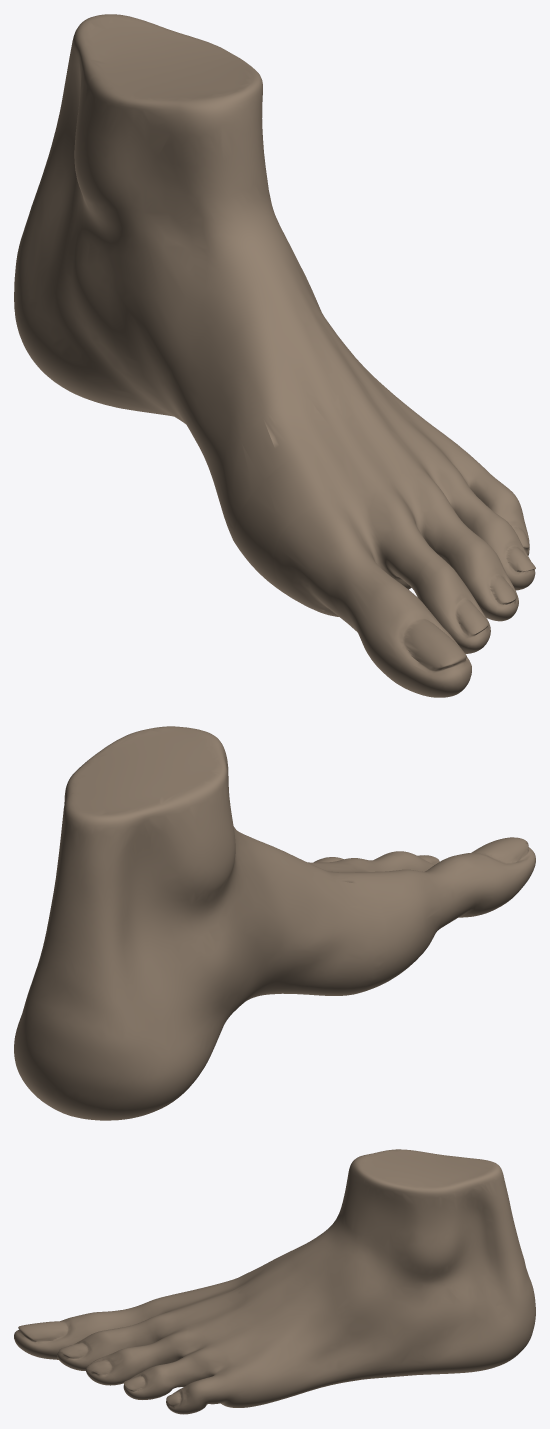
File: foot.egyptian.optimized.glb
3 renders of one model, top to bottom at view 1: azimuth 30°, elevation 25°; view 2: azimuth 150°, elevation 25°; view 3: azimuth 270°, elevation 25°, orthographic. The views are drawn at different scales.
Visible parts, largest first — view 1: Foot_Egyptian; view 2: Foot_Egyptian; view 3: Foot_Egyptian.
Boxes of the visible parts, box(x1,y1,x2,y2) form: Foot_Egyptian: box(14, 14, 535, 697); Foot_Egyptian: box(14, 726, 535, 1120); Foot_Egyptian: box(14, 1149, 535, 1414).
Bounding box in the file's own units: 2.63 × 3.65 × 8.06.
